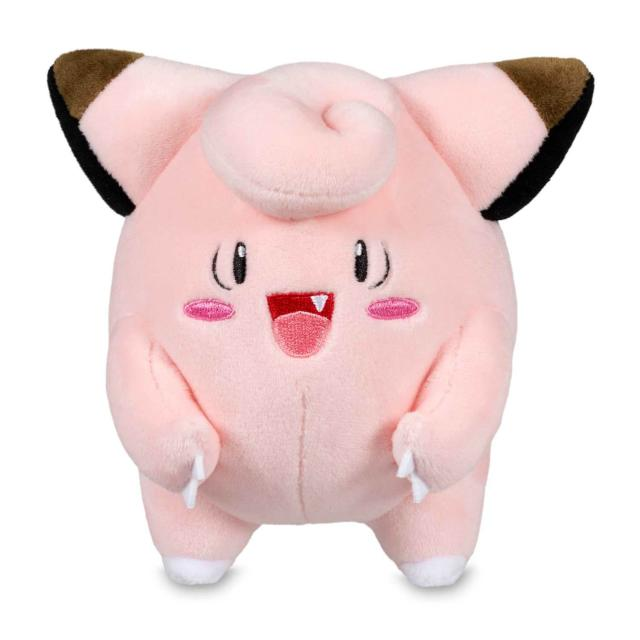Clefairy: (86, 38, 540, 542)
